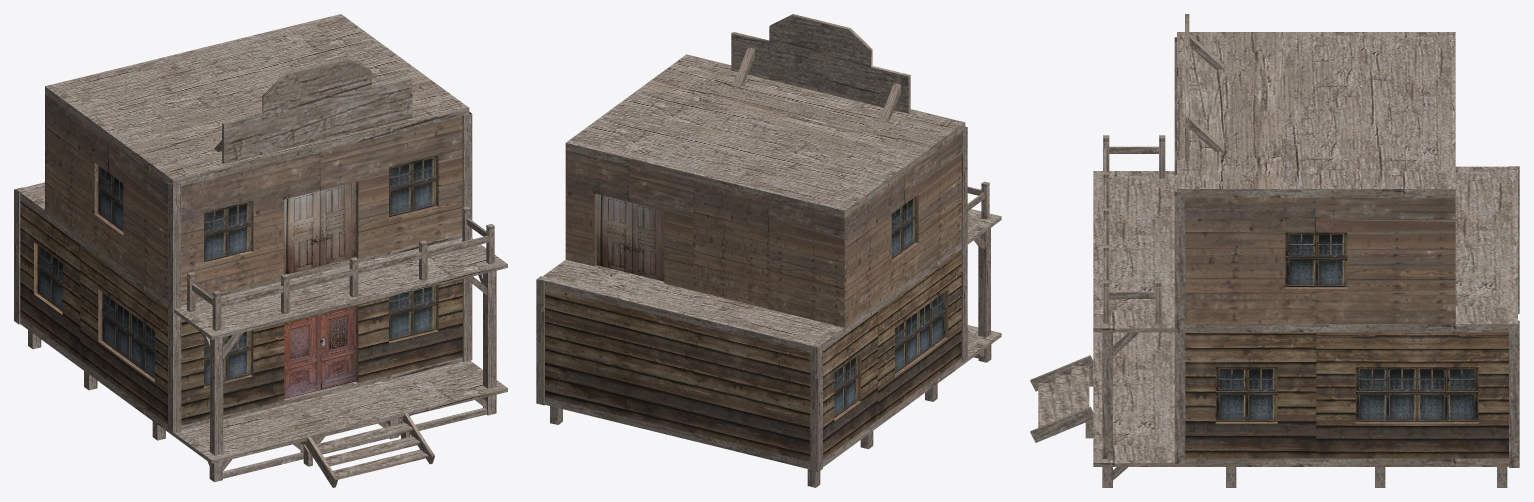
File: House4.fbx
3 views of the same model, side by side, from view 1: azimuth 30°, elevation 25°; view 2: azimuth 150°, elevation 25°; view 3: azimuth 270°, elevation 25° (orthographic). The views are drawn at different scales.
Visible parts, largest first — view 1: node_id18, node_id46, node_id10, node_id34, node_id270, node_id278, node_id38, node_id62, node_id42, node_id14, node_id6, node_id94 (+12 smaller); view 2: node_id46, node_id54, node_id50, node_id58, node_id34, node_id14, node_id278, node_id38, node_id42, node_id6, node_id134, node_id70 (+5 smaller); view 3: node_id46, node_id22, node_id26, node_id30, node_id14, node_id62, node_id270, node_id6, node_id86, node_id98, node_id82, node_id74 (+6 smaller).
Boxes of the visible parts, x1,y1,x2,y2 form: node_id18: [181, 117, 462, 301]; node_id46: [45, 14, 469, 186]; node_id10: [181, 279, 462, 425]; node_id34: [45, 94, 167, 299]; node_id270: [173, 360, 507, 463]; node_id278: [222, 58, 412, 163]; node_id38: [80, 244, 167, 423]; node_id62: [174, 237, 507, 339]; node_id42: [20, 200, 80, 359]; node_id14: [16, 182, 462, 307]; node_id6: [20, 316, 462, 435]; node_id94: [168, 183, 181, 312]; node_id46: [565, 54, 965, 217]; node_id54: [545, 288, 810, 461]; node_id50: [693, 181, 844, 327]; node_id58: [565, 150, 693, 290]; node_id34: [844, 133, 961, 326]; node_id14: [538, 242, 961, 352]; node_id278: [731, 14, 910, 113]; node_id38: [878, 249, 961, 419]; node_id42: [823, 311, 877, 459]; node_id6: [545, 359, 965, 469]; node_id134: [810, 345, 822, 472]; node_id70: [978, 228, 990, 337]; node_id46: [1177, 32, 1455, 197]; node_id22: [1185, 197, 1455, 323]; node_id26: [1316, 332, 1508, 458]; node_id30: [1185, 332, 1316, 458]; node_id14: [1185, 166, 1517, 332]; node_id62: [1093, 171, 1176, 332]; node_id270: [1093, 332, 1176, 466]; node_id6: [1177, 458, 1508, 466]; node_id86: [1174, 191, 1185, 333]; node_id98: [1509, 320, 1519, 467]; node_id82: [1174, 333, 1185, 463]; node_id74: [1102, 332, 1112, 458].
Size of the model in its own units: 0.4485 by 0.5113 by 0.5837.
Materials: 69 (69 with a texture image).
